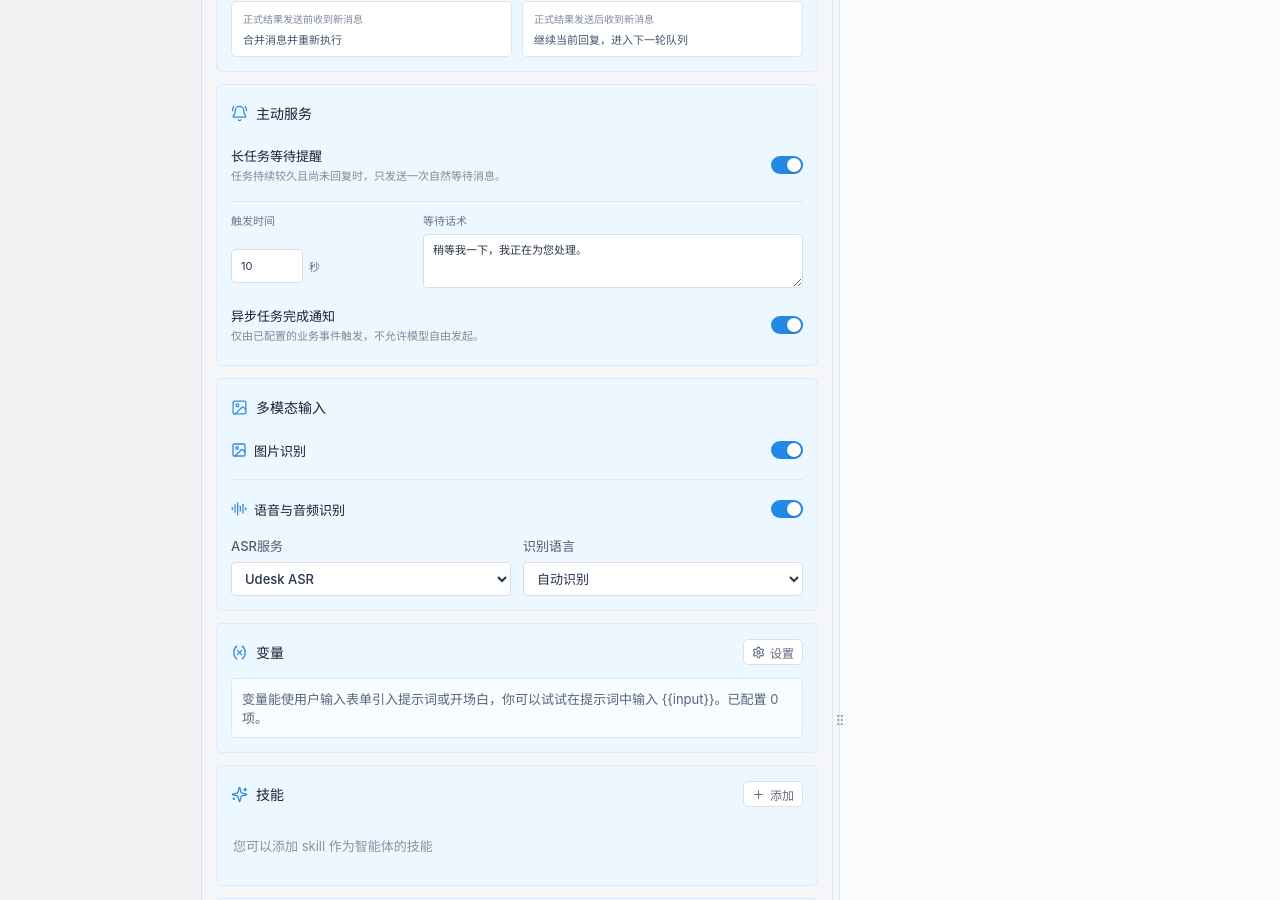
advanced agent configuration prototype › disables media upload entry points with multimodal configuration switches
(page scrolled)
Click the checkbox named "接收并识别图片": [787, 450] box [771, 441, 803, 459]
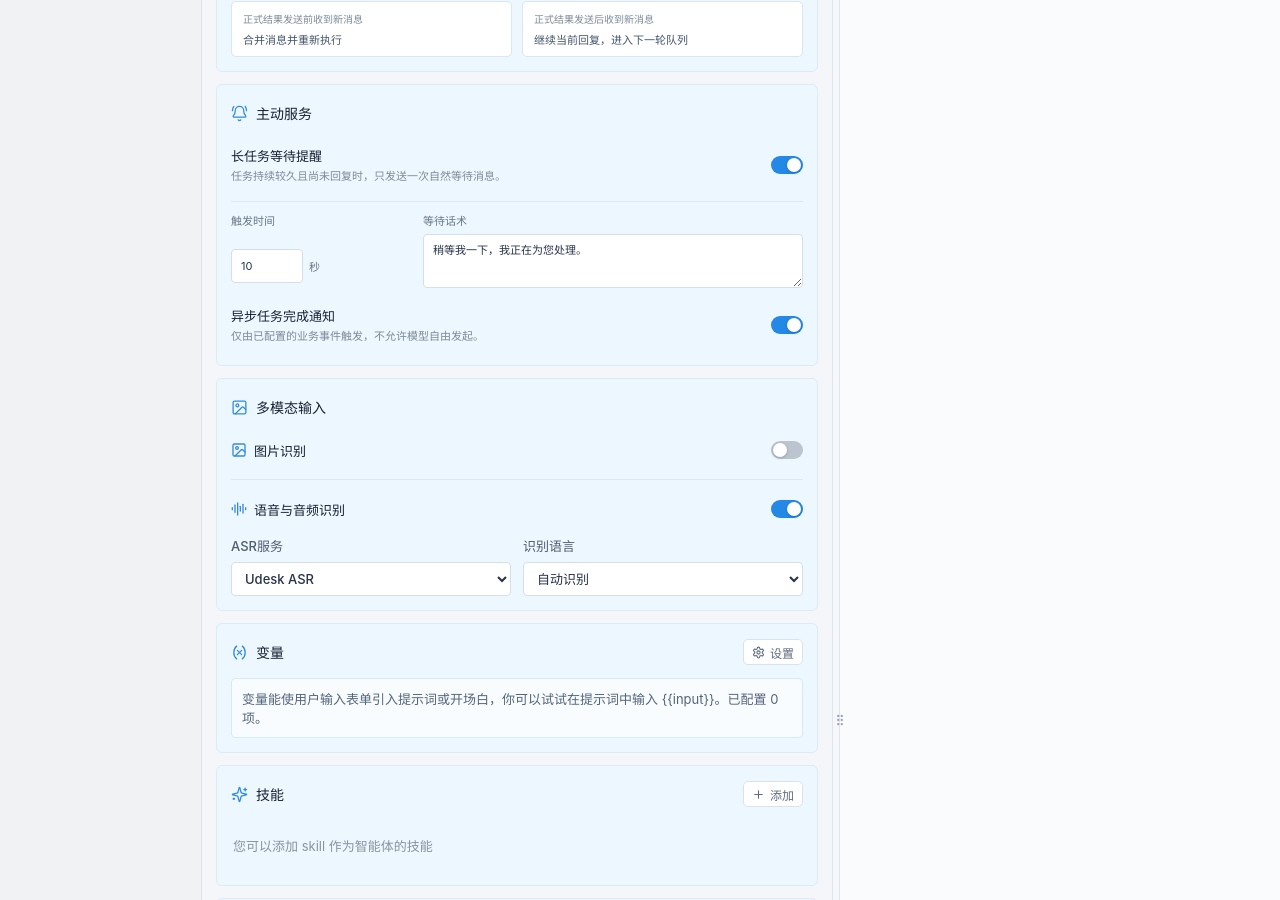
Click the checkbox named "接收并识别语音和音频": [787, 509] box [771, 500, 803, 518]
(page scrolled)
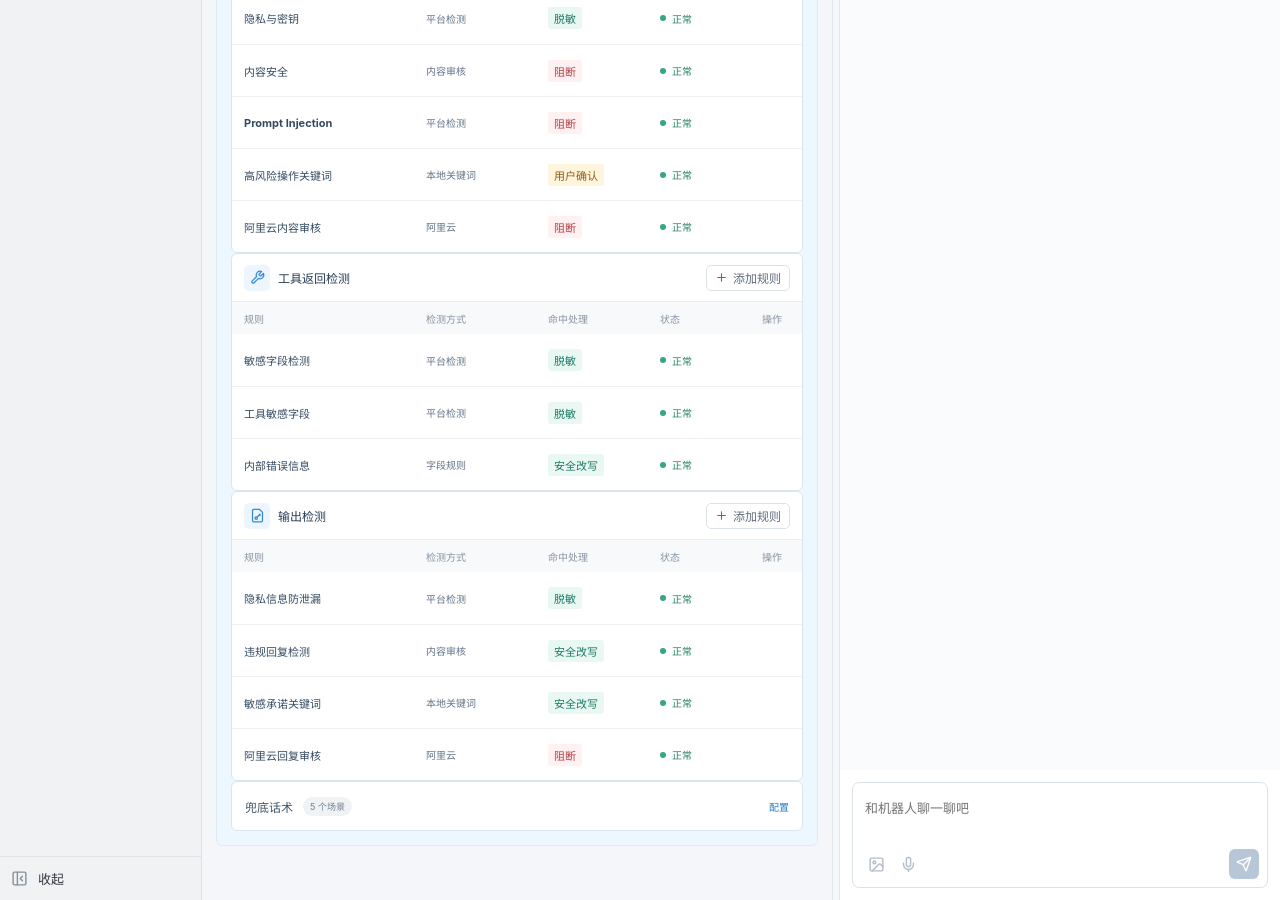
Now the button named "上传图片" is disabled, box [861, 850, 891, 878]
Now the button named "开始录音" is disabled, box [893, 850, 923, 878]
